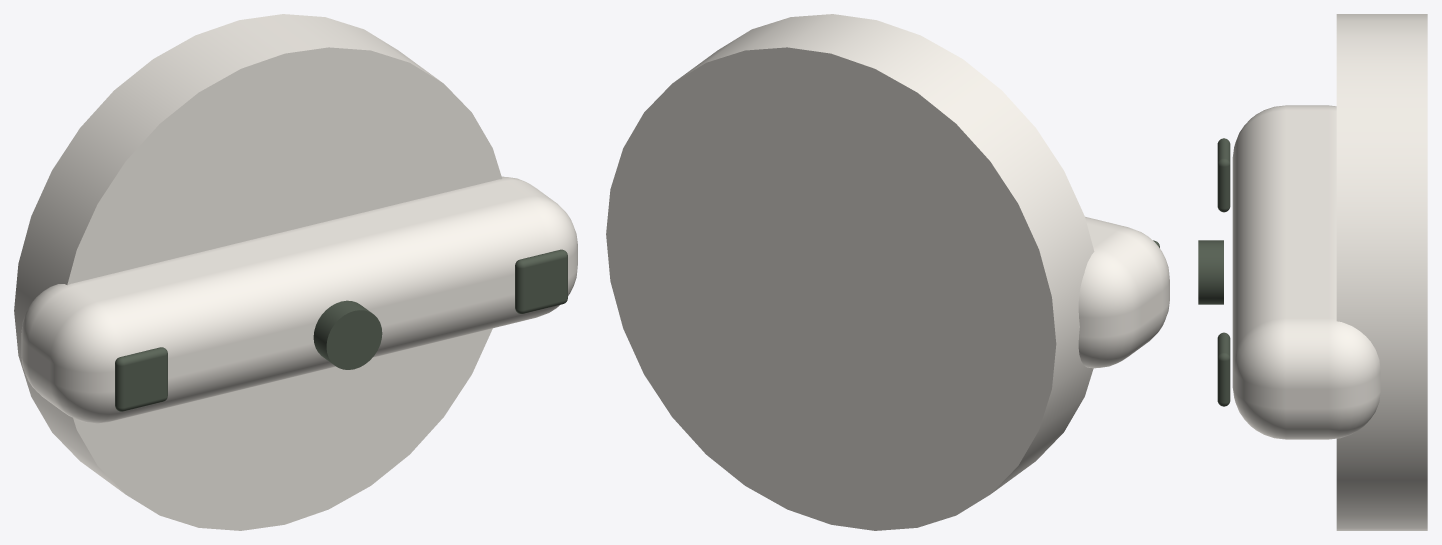
Rendered from crank-friends.prefab.glb.
The picture shows the model from 3 angles, left to right: view 1: azimuth 30°, elevation 25°; view 2: azimuth 150°, elevation 25°; view 3: azimuth 270°, elevation 25°; orthographic projection.
Parts seen in each view (by area): view 1: Crank_Batch0; view 2: Crank_Batch0; view 3: Crank_Batch0.
Boxes of the visible parts, x1,y1,x2,y2 form: Crank_Batch0: (14, 14, 577, 530); Crank_Batch0: (606, 14, 1169, 530); Crank_Batch0: (1198, 14, 1427, 530).
Size of the model in its own units: 0.056 by 0.0484 by 0.0215.
1 material, 1 textured.
